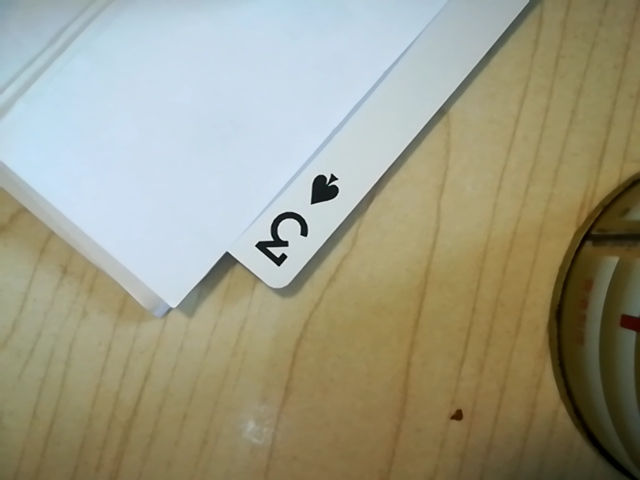ht 3: (238, 166, 348, 280)
